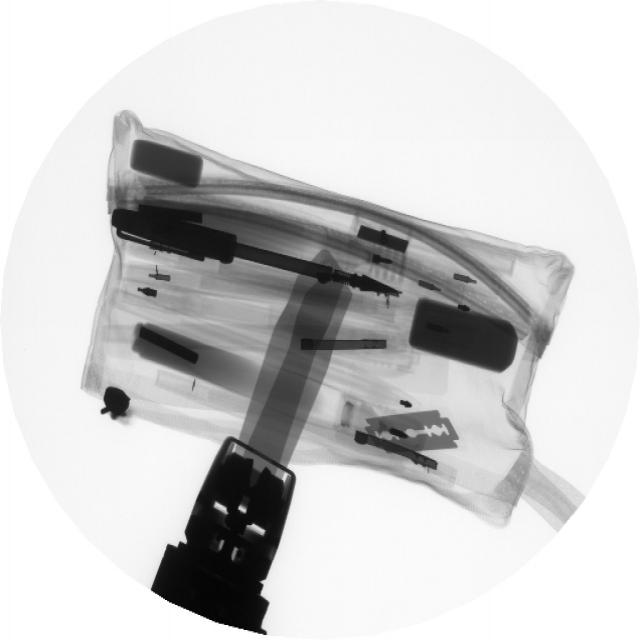BLADE: (353, 401, 466, 470)
